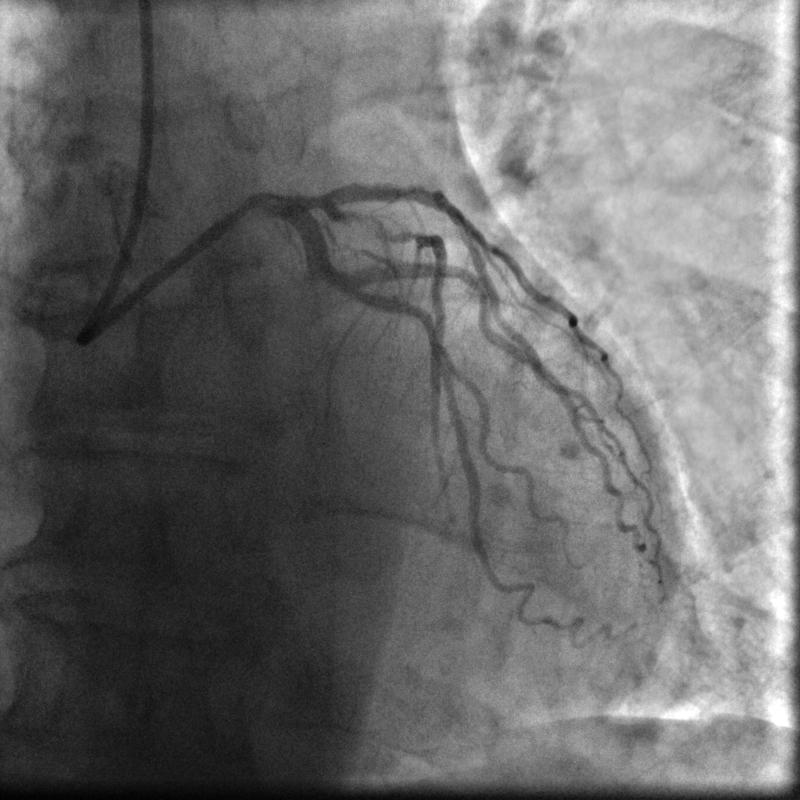Stenosis: (341, 202, 420, 253)
